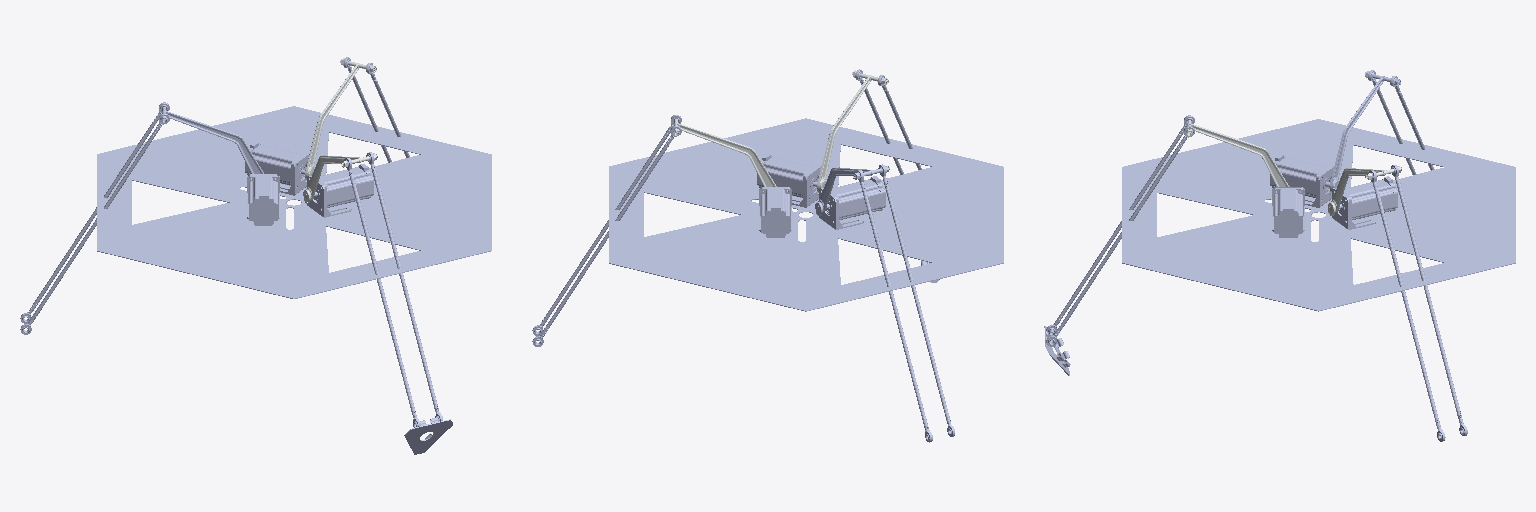
The robot description file, URDF, robot "delta_robot_description":
<?xml version="1.0" encoding="utf-8"?>
<!-- This URDF was automatically created by SolidWorks to URDF Exporter! Originally created by [author] ([email redacted]) 
     Commit Version: 1.6.0-4-g7f85cfe  Build Version: 1.6.7995.38578
     For more information, please see http://wiki.ros.org/sw_urdf_exporter -->
<robot
  name="delta_robot_description">
  <link
    name="base_link">
    <inertial>
      <origin
        xyz="1.4363E-06 -2.4878E-06 0.023701"
        rpy="0 0 0" />
      <mass
        value="1.8846" />
      <inertia
        ixx="0.031183"
        ixy="-4.2394E-07"
        ixz="-2.6258E-20"
        iyy="0.031182"
        iyz="-2.1176E-20"
        izz="0.061776" />
    </inertial>
    <visual>
      <origin
        xyz="0 0 0"
        rpy="0 0 0" />
      <geometry>
        <mesh
          filename="package://delta_robot_description/meshes/base_link.STL" />
      </geometry>
      <material
        name="">
        <color
          rgba="0.79216 0.81961 0.93333 1" />
      </material>
    </visual>
    <collision>
      <origin
        xyz="0 0 0"
        rpy="0 0 0" />
      <geometry>
        <mesh
          filename="package://delta_robot_description/meshes/base_link.STL" />
      </geometry>
    </collision>
  </link>
  <link
    name="bicep_1">
    <inertial>
      <origin
        xyz="0.019912 0.093991 -0.0031098"
        rpy="0 0 0" />
      <mass
        value="0.045007" />
      <inertia
        ixx="0.00026426"
        ixy="-8.1884E-05"
        ixz="5.2359E-07"
        iyy="3.769E-05"
        iyz="2.8174E-06"
        izz="0.00030082" />
    </inertial>
    <visual>
      <origin
        xyz="0 0 0"
        rpy="0 0 0" />
      <geometry>
        <mesh
          filename="package://delta_robot_description/meshes/bicep_1.STL" />
      </geometry>
      <material
        name="">
        <color
          rgba="0.89804 0.91765 0.92941 1" />
      </material>
    </visual>
    <collision>
      <origin
        xyz="0 0 0"
        rpy="0 0 0" />
      <geometry>
        <mesh
          filename="package://delta_robot_description/meshes/bicep_1.STL" />
      </geometry>
    </collision>
  </link>
  <joint
    name="bicep_1_joint"
    type="revolute">
    <origin
      xyz="-0.0028159 -0.059167 0.039169"
      rpy="3.1416 1.5708 0" />
    <parent
      link="base_link" />
    <child
      link="bicep_1" />
    <axis
      xyz="0 0 1" />
    <limit
      lower="1.047"
      upper="1.047"
      effort="100"
      velocity="100" />
    <dynamics
      damping="0.1"
      friction="0.1" />
  </joint>
  <link
    name="forearm_1">
    <inertial>
      <origin
        xyz="-0.0011961 -0.13052 -0.23292"
        rpy="0 0 0" />
      <mass
        value="0.036137" />
      <inertia
        ixx="0.00046089"
        ixy="-1.004E-06"
        ixz="-1.8006E-06"
        iyy="0.00035072"
        iyz="-0.00019618"
        izz="0.00011057" />
    </inertial>
    <visual>
      <origin
        xyz="0 0 0"
        rpy="0 0 0" />
      <geometry>
        <mesh
          filename="package://delta_robot_description/meshes/forearm_1.STL" />
      </geometry>
      <material
        name="">
        <color
          rgba="0.79216 0.81961 0.93333 1" />
      </material>
    </visual>
    <collision>
      <origin
        xyz="0 0 0"
        rpy="0 0 0" />
      <geometry>
        <mesh
          filename="package://delta_robot_description/meshes/forearm_1.STL" />
      </geometry>
    </collision>
  </link>
  <joint
    name="forearm_1_joint"
    type="fixed">
    <origin
      xyz="0.092722 0.23307 -0.0038182"
      rpy="-1.5708 -1.5594 1.5708" />
    <parent
      link="bicep_1" />
    <child
      link="forearm_1" />
    <axis
      xyz="0 0 0" />
    <limit
      effort="100"
      velocity="100" />
    <dynamics
      damping="0.1"
      friction="0.1" />
  </joint>
  <link
    name="end_effector">
    <inertial>
      <origin
        xyz="0.00013119 7.3767E-05 0.0011465"
        rpy="0 0 0" />
      <mass
        value="0.019746" />
      <inertia
        ixx="9.0285E-06"
        ixy="-1.6556E-07"
        ixz="6.1029E-23"
        iyy="9.2298E-06"
        iyz="-2.4106E-23"
        izz="1.7957E-05" />
    </inertial>
    <visual>
      <origin
        xyz="0 0 0"
        rpy="0 0 0" />
      <geometry>
        <mesh
          filename="package://delta_robot_description/meshes/end_effector.STL" />
      </geometry>
      <material
        name="">
        <color
          rgba="0.79216 0.81961 0.93333 1" />
      </material>
    </visual>
    <collision>
      <origin
        xyz="0 0 0"
        rpy="0 0 0" />
      <geometry>
        <mesh
          filename="package://delta_robot_description/meshes/end_effector.STL" />
      </geometry>
    </collision>
  </link>
  <joint
    name="end_effector_joint"
    type="fixed">
    <origin
      xyz="-0.0019474 -0.29202 -0.4762"
      rpy="0 0 3.1416" />
    <parent
      link="forearm_1" />
    <child
      link="end_effector" />
    <axis
      xyz="0 0 0" />
    <limit
      lower="0"
      upper="0"
      effort="100"
      velocity="100" />
    <dynamics
      damping="0.1"
      friction="0.1" />
  </joint>
  <link
    name="bicep_2">
    <inertial>
      <origin
        xyz="0.019912 0.09399 -0.0031098"
        rpy="0 0 0" />
      <mass
        value="0.045007" />
      <inertia
        ixx="0.00026426"
        ixy="-8.1885E-05"
        ixz="5.2359E-07"
        iyy="3.769E-05"
        iyz="2.8175E-06"
        izz="0.00030083" />
    </inertial>
    <visual>
      <origin
        xyz="0 0 0"
        rpy="0 0 0" />
      <geometry>
        <mesh
          filename="package://delta_robot_description/meshes/bicep_2.STL" />
      </geometry>
      <material
        name="">
        <color
          rgba="0.89804 0.91765 0.92941 1" />
      </material>
    </visual>
    <collision>
      <origin
        xyz="0 0 0"
        rpy="0 0 0" />
      <geometry>
        <mesh
          filename="package://delta_robot_description/meshes/bicep_2.STL" />
      </geometry>
    </collision>
  </link>
  <joint
    name="bicep_2_joint"
    type="revolute">
    <origin
      xyz="0.052648 0.027137 0.039169"
      rpy="1.0472 1.5708 0" />
    <parent
      link="base_link" />
    <child
      link="bicep_2" />
    <axis
      xyz="0 0 1" />
    <limit
      lower="1.047"
      upper="1.047"
      effort="100"
      velocity="100" />
    <dynamics
      damping="0.1"
      friction="0.1" />
  </joint>
  <link
    name="forearm_2">
    <inertial>
      <origin
        xyz="-0.00028764 -0.13053 0.23292"
        rpy="0 0 0" />
      <mass
        value="0.036136" />
      <inertia
        ixx="0.00046089"
        ixy="-2.562E-07"
        ixz="4.2684E-07"
        iyy="0.00035071"
        iyz="0.00019619"
        izz="0.00011057" />
    </inertial>
    <visual>
      <origin
        xyz="0 0 0"
        rpy="0 0 0" />
      <geometry>
        <mesh
          filename="package://delta_robot_description/meshes/forearm_2.STL" />
      </geometry>
      <material
        name="">
        <color
          rgba="0.79216 0.81961 0.93333 1" />
      </material>
    </visual>
    <collision>
      <origin
        xyz="0 0 0"
        rpy="0 0 0" />
      <geometry>
        <mesh
          filename="package://delta_robot_description/meshes/forearm_2.STL" />
      </geometry>
    </collision>
  </link>
  <joint
    name="forearm_2_joint"
    type="fixed">
    <origin
      xyz="0.092722 0.23307 -0.0038182"
      rpy="0 1.5708 0" />
    <parent
      link="bicep_2" />
    <child
      link="forearm_2" />
    <axis
      xyz="0 0 0" />
    <limit
      effort="100"
      velocity="100" />
    <dynamics
      damping="0.1"
      friction="0.1" />
  </joint>
  <link
    name="bicep_3">
    <inertial>
      <origin
        xyz="0.093991 -0.019912 -0.0031098"
        rpy="0 0 0" />
      <mass
        value="0.045007" />
      <inertia
        ixx="3.769E-05"
        ixy="8.1884E-05"
        ixz="2.8174E-06"
        iyy="0.00026426"
        iyz="-5.2359E-07"
        izz="0.00030082" />
    </inertial>
    <visual>
      <origin
        xyz="0 0 0"
        rpy="0 0 0" />
      <geometry>
        <mesh
          filename="package://delta_robot_description/meshes/bicep_3.STL" />
      </geometry>
      <material
        name="">
        <color
          rgba="0.79216 0.81961 0.93333 1" />
      </material>
    </visual>
    <collision>
      <origin
        xyz="0 0 0"
        rpy="0 0 0" />
      <geometry>
        <mesh
          filename="package://delta_robot_description/meshes/bicep_3.STL" />
      </geometry>
    </collision>
  </link>
  <joint
    name="bicep_3_joint"
    type="revolute">
    <origin
      xyz="-0.049826 0.032018 0.039169"
      rpy="1.5708 0 2.618" />
    <parent
      link="base_link" />
    <child
      link="bicep_3" />
    <axis
      xyz="0 0 1" />
    <limit
      lower="1.047"
      upper="1.047"
      effort="100"
      velocity="100" />
    <dynamics
      damping="0.1"
      friction="0.1" />
  </joint>
  <link
    name="forearm_3">
    <inertial>
      <origin
        xyz="0.0017747 -0.13052 -0.23292"
        rpy="0 0 0" />
      <mass
        value="0.036137" />
      <inertia
        ixx="0.00046087"
        ixy="1.4986E-06"
        ixz="2.6641E-06"
        iyy="0.00035073"
        iyz="-0.00019617"
        izz="0.00011057" />
    </inertial>
    <visual>
      <origin
        xyz="0 0 0"
        rpy="0 0 0" />
      <geometry>
        <mesh
          filename="package://delta_robot_description/meshes/forearm_3.STL" />
      </geometry>
      <material
        name="">
        <color
          rgba="0.79216 0.81961 0.93333 1" />
      </material>
    </visual>
    <collision>
      <origin
        xyz="0 0 0"
        rpy="0 0 0" />
      <geometry>
        <mesh
          filename="package://delta_robot_description/meshes/forearm_3.STL" />
      </geometry>
    </collision>
  </link>
  <joint
    name="forearm_3_joint"
    type="fixed">
    <origin
      xyz="0.23307 -0.092722 -0.0038182"
      rpy="1.5708 -1.5594 3.1416" />
    <parent
      link="bicep_3" />
    <child
      link="forearm_3" />
    <axis
      xyz="0 0 0" />
    <dynamics
      damping="0.1"
      friction="0.1" />
  </joint>
</robot>

--- What the picture shows (computed from the rendered views, not written in the file) ---
The picture shows the robot from 3 angles, left to right: view 1: azimuth 30°, elevation 25°; view 2: azimuth 150°, elevation 25°; view 3: azimuth 270°, elevation 25°; orthographic projection.
Robot: delta_robot_description — 8 links, 7 joints (3 revolute, 4 fixed); root link base_link; default pose: joints at zero except 3 at the middle of their limits (bicep_1_joint = 1.05, bicep_2_joint = 1.05, bicep_3_joint = 1.05).
Visible links, largest first — view 1: base_link, forearm_1, forearm_3, bicep_3, end_effector, bicep_2, forearm_2, bicep_1; view 2: base_link, forearm_3, forearm_2, bicep_2, bicep_1, forearm_1, bicep_3; view 3: base_link, forearm_2, forearm_1, bicep_1, bicep_3, forearm_3, bicep_2.
Boxes of the visible links, x1,y1,x2,y2 form: base_link: (97,106,491,298); forearm_1: (344,152,442,427); forearm_3: (20,102,169,334); bicep_3: (161,107,263,173); end_effector: (404,417,452,454); bicep_2: (305,58,376,181); forearm_2: (344,57,409,162); bicep_1: (303,153,377,203); base_link: (609,118,1003,311); forearm_3: (856,164,954,442); forearm_2: (532,115,681,346); bicep_2: (673,119,776,186); bicep_1: (817,70,888,194); forearm_1: (855,69,921,174); bicep_3: (815,166,889,215); base_link: (1122,119,1515,311); forearm_2: (1369,165,1467,441); forearm_1: (1046,115,1194,346); bicep_1: (1186,120,1289,186); bicep_3: (1329,71,1400,194); forearm_3: (1368,70,1434,174); bicep_2: (1328,166,1401,215).
Size in the robot's own frame: 0.9626 by 0.9332 by 0.5536 metres.
8 mesh visuals loaded from 8 distinct referenced files (8 binary STL).